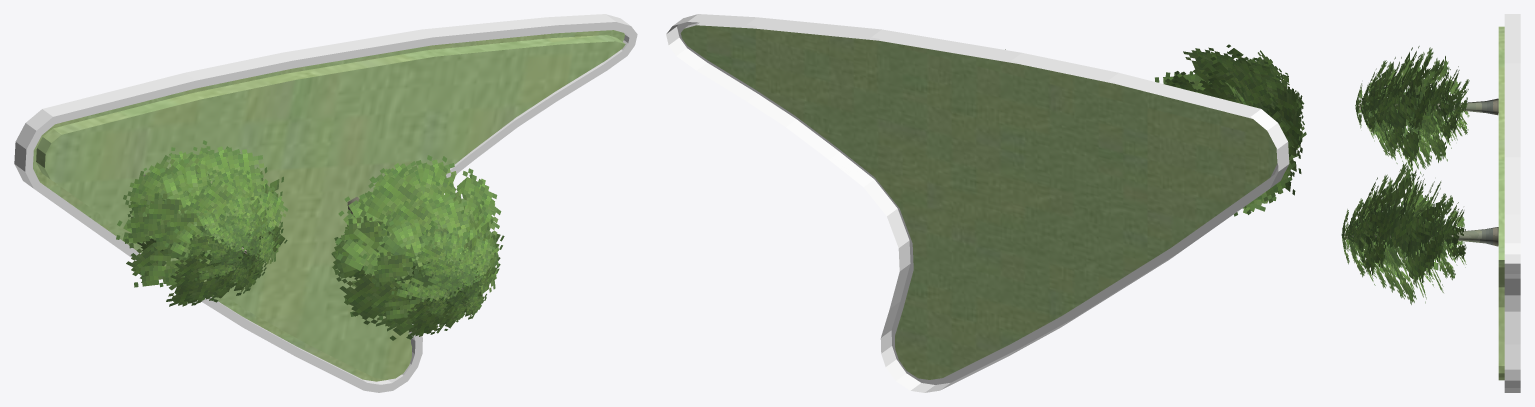
3 views of the same model, side by side, from view 1: azimuth 30°, elevation 25°; view 2: azimuth 150°, elevation 25°; view 3: azimuth 270°, elevation 25° (orthographic). The views are drawn at different scales.
Visible parts, largest first — view 1: 贝塞尔圆.003, 数木1.015, 贝塞尔圆.001, 数木1.016; view 2: 贝塞尔圆.001, 数木1.016; view 3: 数木1.015, 数木1.016, 贝塞尔圆.001, 贝塞尔圆.003.
Boxes of the visible parts, bbox=[...] form: 贝塞尔圆.003: bbox=[36, 35, 625, 379]; 数木1.015: bbox=[331, 155, 504, 340]; 贝塞尔圆.001: bbox=[14, 14, 637, 392]; 数木1.016: bbox=[116, 140, 288, 306]; 贝塞尔圆.001: bbox=[666, 14, 1289, 392]; 数木1.016: bbox=[1155, 44, 1306, 216]; 数木1.015: bbox=[1341, 162, 1498, 304]; 数木1.016: bbox=[1355, 46, 1498, 175]; 贝塞尔圆.001: bbox=[1504, 14, 1520, 392]; 贝塞尔圆.003: bbox=[1498, 26, 1504, 380].
Size of the model in its own units: 16.28 by 9.1 by 5.7.
Materials: 3 (2 with a texture image).
